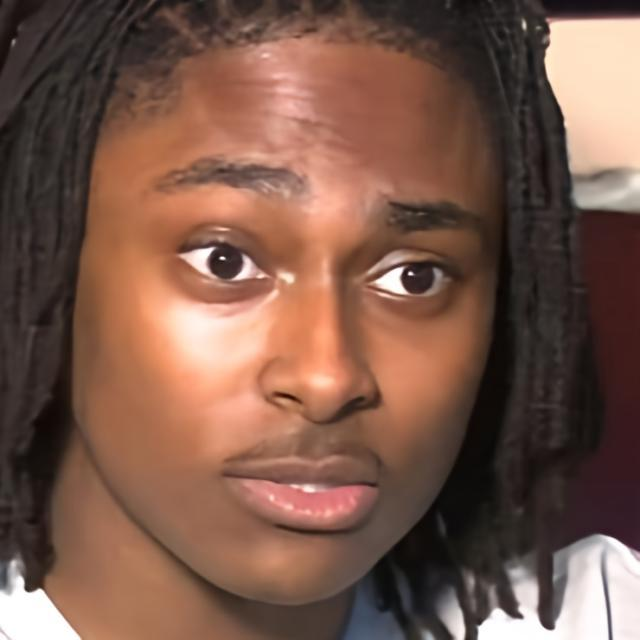surprise: (82, 29, 502, 604)
